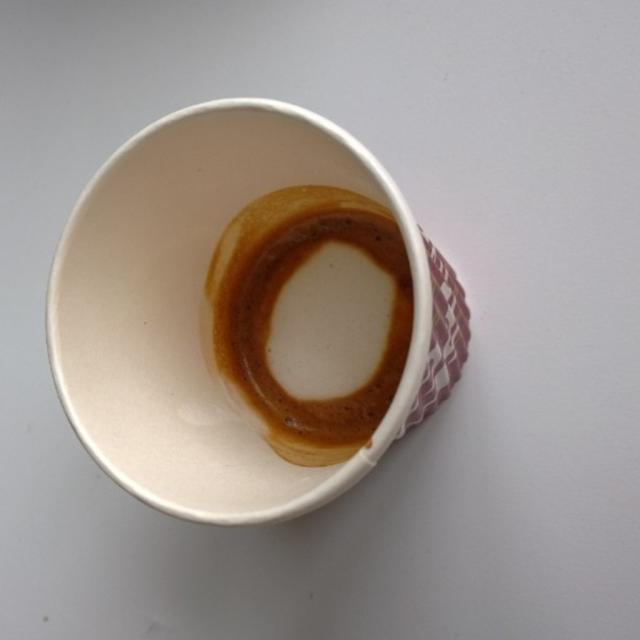Coffee: (204, 187, 408, 467)
